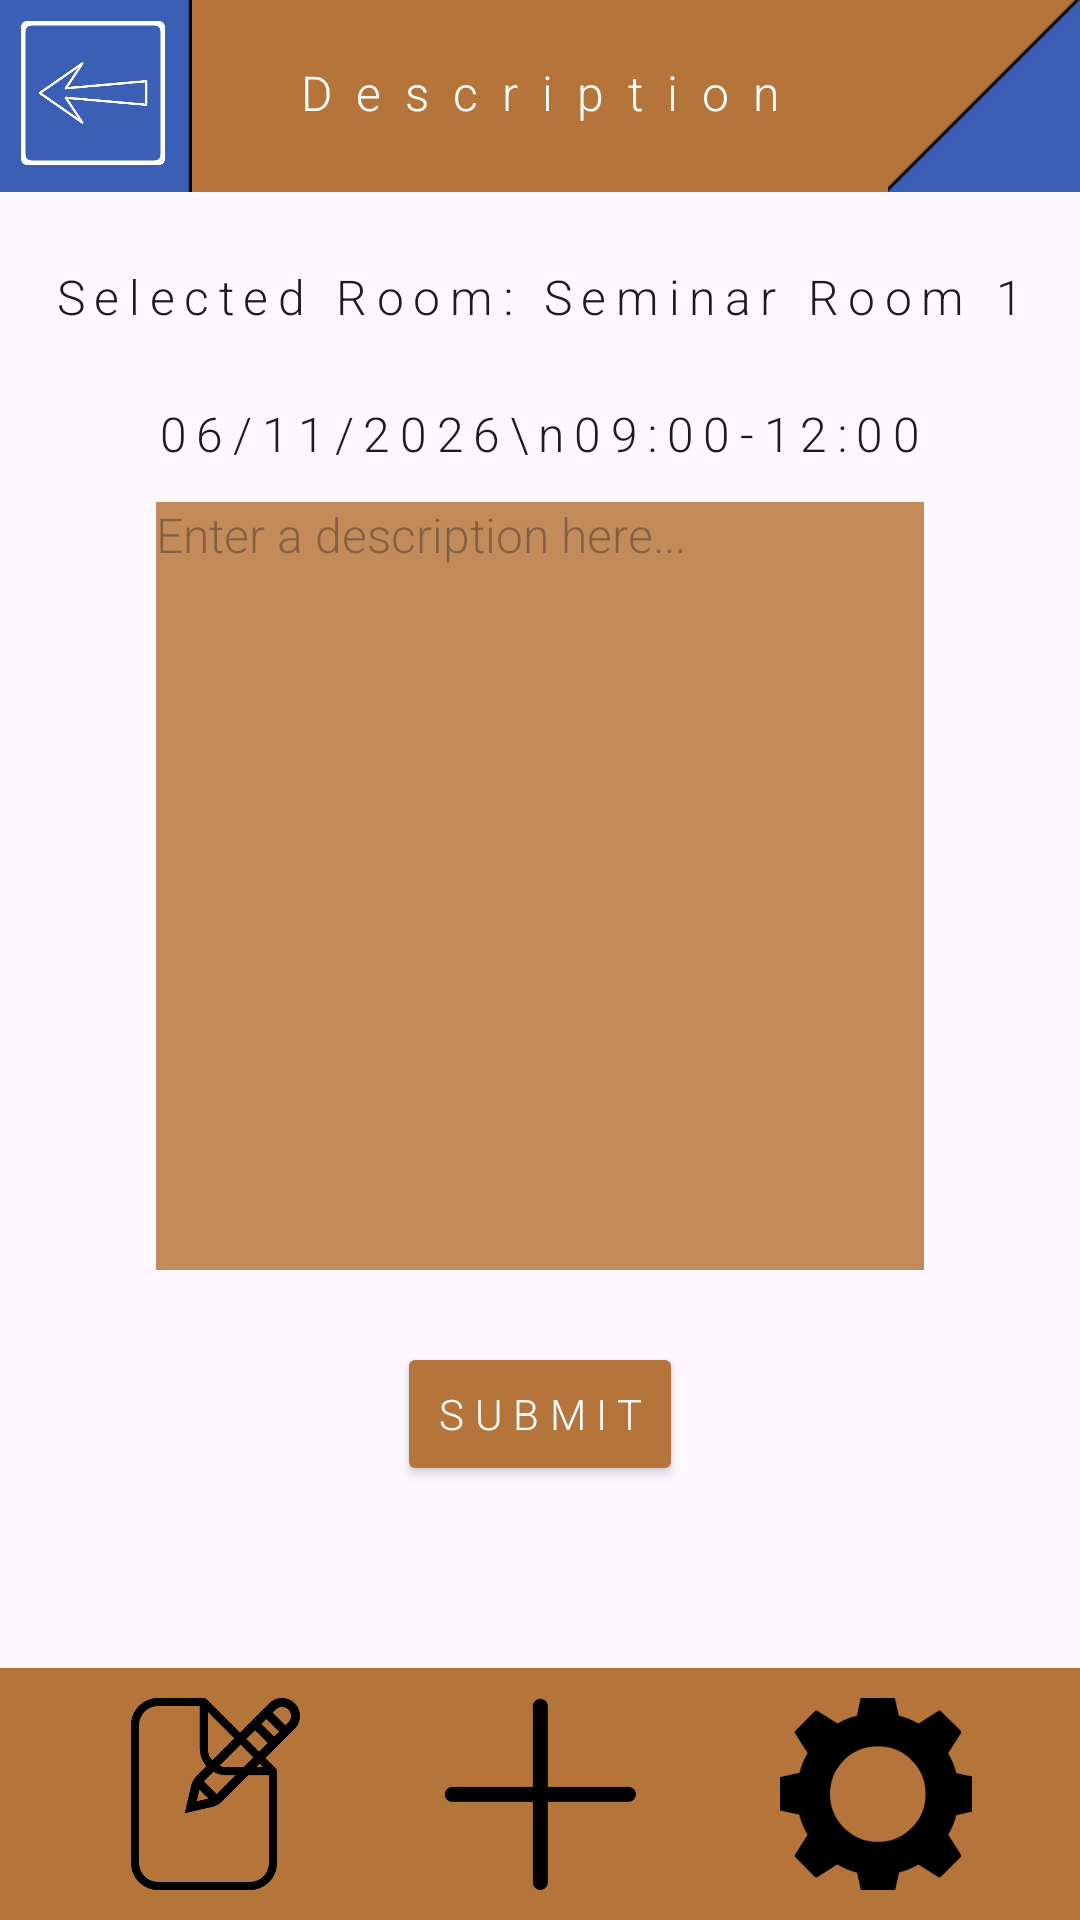

Locate icon controls on the screen. Image size 1080*1920, boxes as bbox=(x1, y1, x2, y2).
create booking: bbox=(444, 1698, 636, 1890)
settings: bbox=(780, 1698, 972, 1890)
